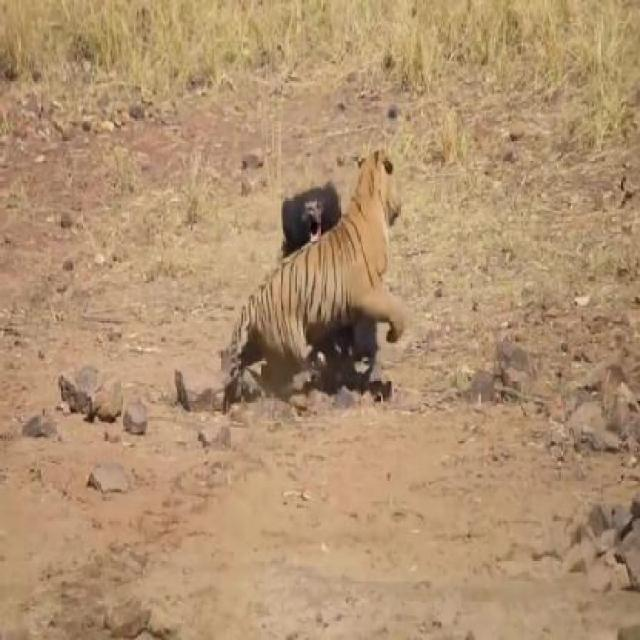Bear: (270, 166, 356, 260)
